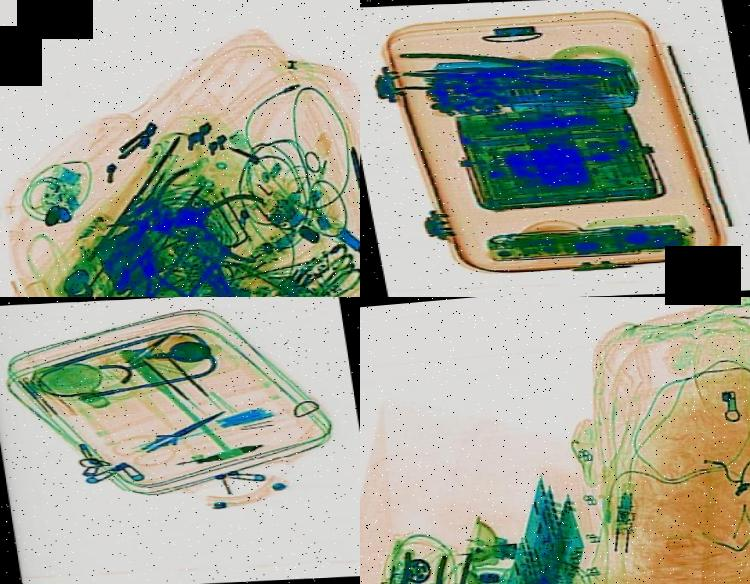Knife: (130, 404, 234, 457)
Pliers: (394, 43, 626, 89), (166, 174, 270, 270), (118, 156, 210, 250), (115, 235, 208, 297), (362, 544, 464, 584)
Wrench: (58, 263, 162, 297)
